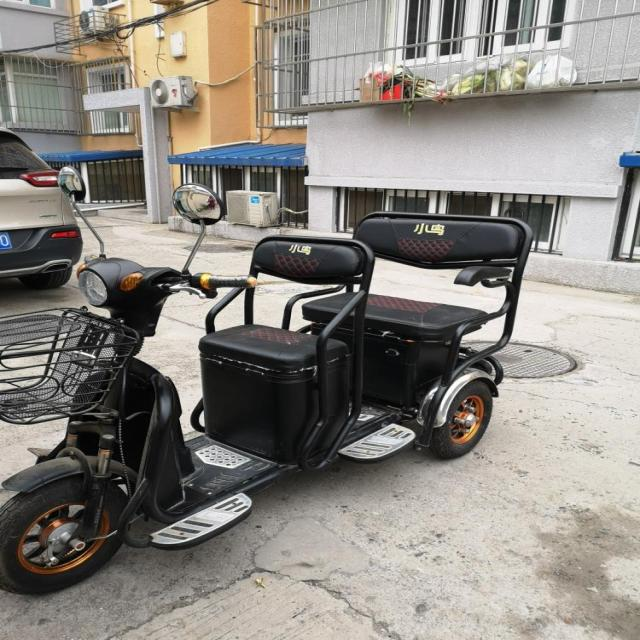car: (1, 128, 82, 290)
tricycle: (0, 166, 531, 595)
